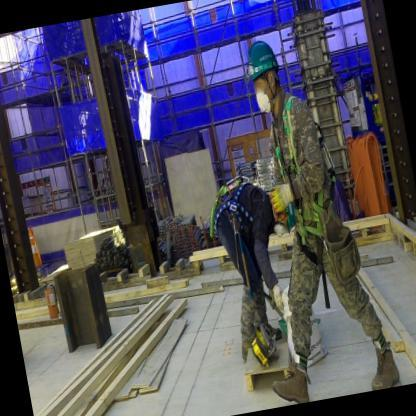Helmet: (238, 31, 286, 84)
safety-shoe: (352, 325, 411, 392), (258, 344, 317, 409)
